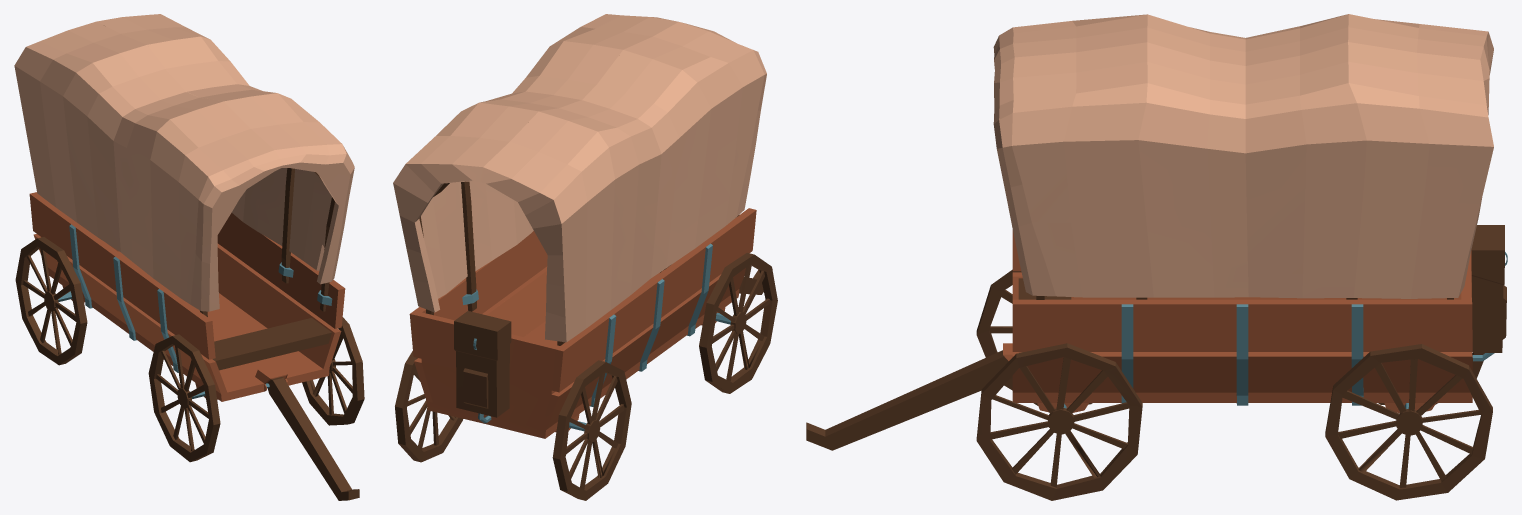
File: Wagon_V01.fbx
3 renders of one model, left to right at view 1: azimuth 30°, elevation 25°; view 2: azimuth 150°, elevation 25°; view 3: azimuth 270°, elevation 25°, orthographic. The views are drawn at different scales.
Visible parts, largest first — view 1: Wagon_V01; view 2: Wagon_V01; view 3: Wagon_V01.
Boxes of the visible parts, box(x1,y1,x2,y2) form: Wagon_V01: box(14, 14, 364, 500); Wagon_V01: box(393, 14, 777, 500); Wagon_V01: box(806, 14, 1507, 500).
Bounding box in the file's own units: 144 × 279 × 432.
